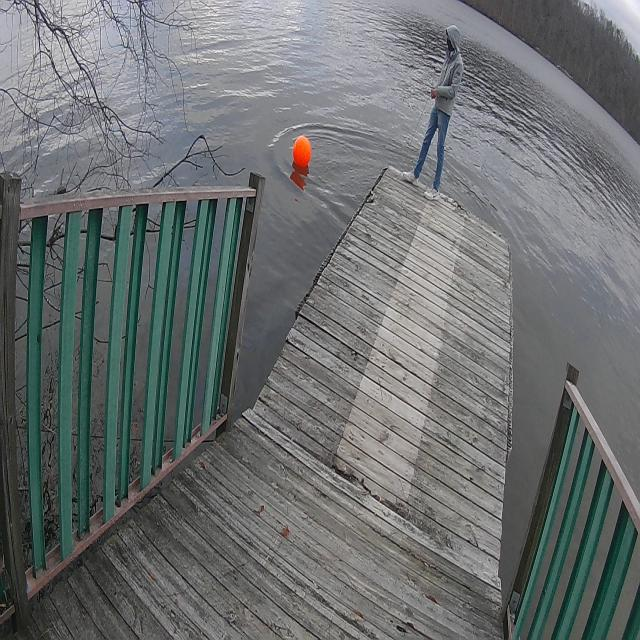Buoy: (288, 129, 315, 174)
